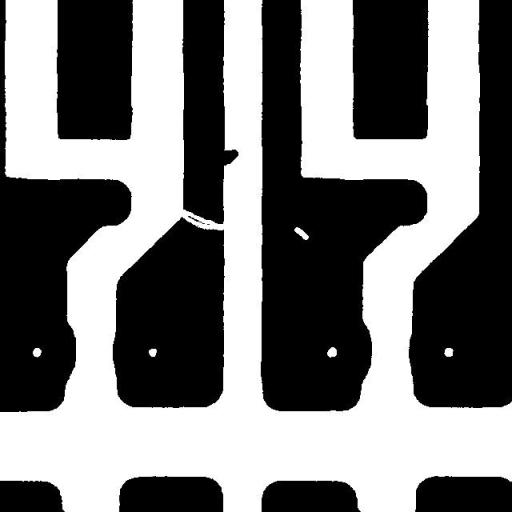open: (170, 200, 234, 238)
pin-hole: (286, 219, 316, 247)
spur: (210, 142, 246, 172)
